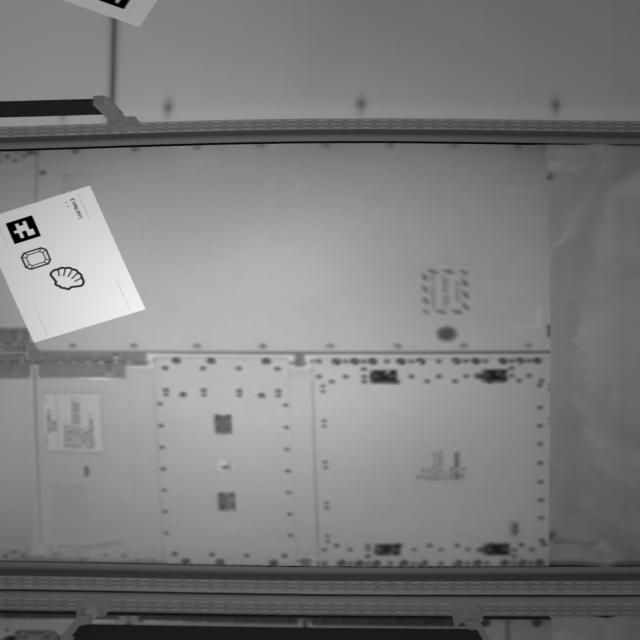emerald: (21, 247, 54, 272)
shell: (51, 267, 88, 292)
